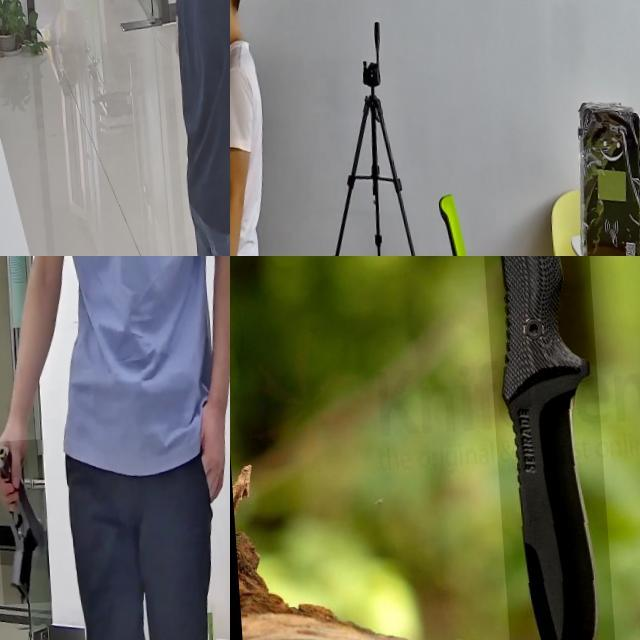-: (473, 256, 608, 640)
gun-knife-thesis - v11 Yolov5 augmented: (0, 442, 44, 607), (230, 0, 250, 48)
